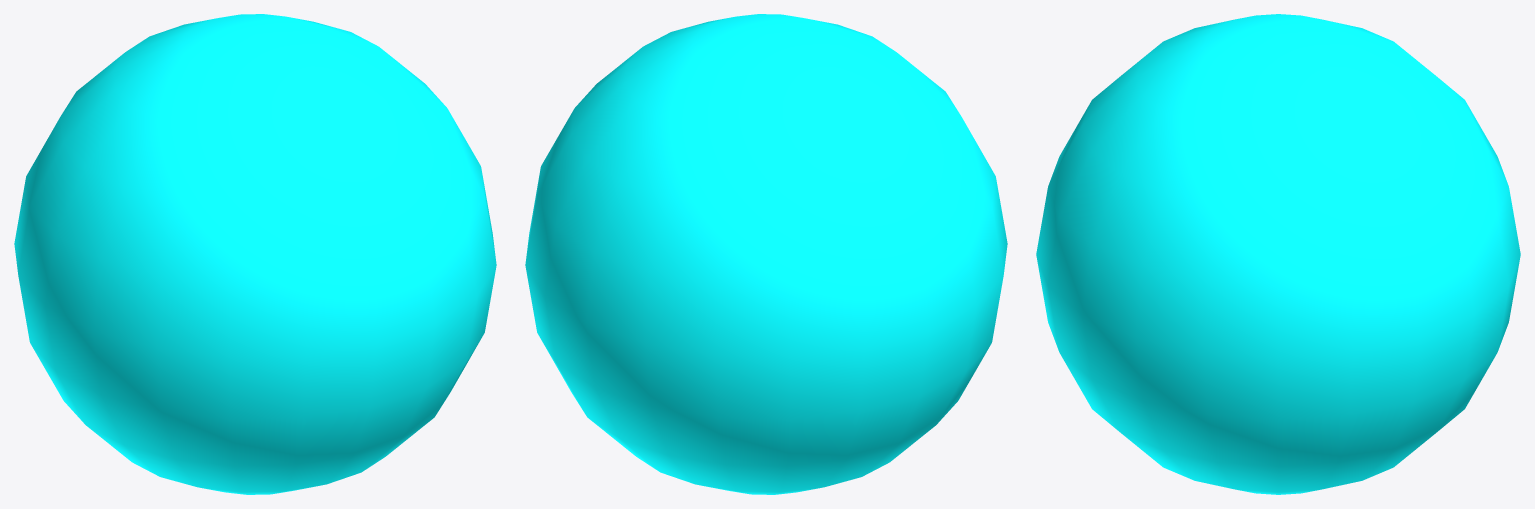
The model's file is 1bdd8ed9-fcce-4e68-9904-a5016d2c5078.glb.
3 views of the same model, side by side, from view 1: azimuth 30°, elevation 25°; view 2: azimuth 150°, elevation 25°; view 3: azimuth 270°, elevation 25° (orthographic).
Visible parts, largest first — view 1: BaseSphere.005; view 2: BaseSphere.005; view 3: BaseSphere.005.
Boxes of the visible parts, left/top/right/bottom form: BaseSphere.005: left=14, top=14, right=496, bottom=494; BaseSphere.005: left=525, top=14, right=1007, bottom=494; BaseSphere.005: left=1036, top=14, right=1520, bottom=494.
Size of what is drawn, in the model's own units: 0.7481 by 0.7481 by 0.7481.
Materials: 1 (1 with a texture image).
